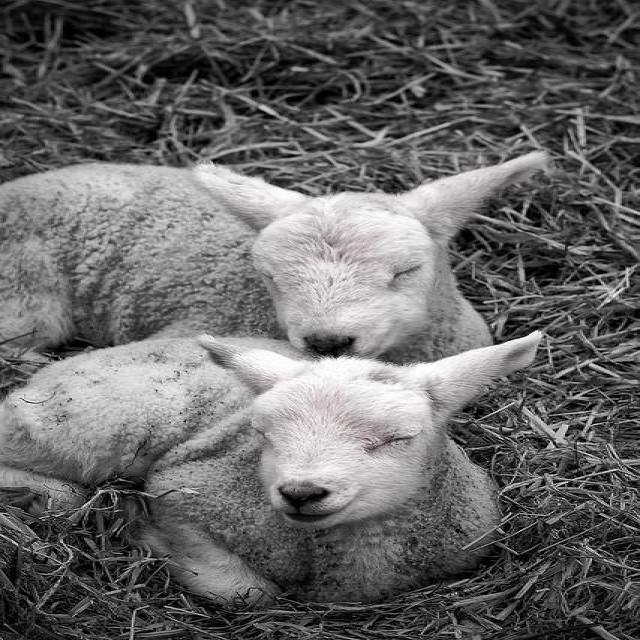Sheep: (3, 330, 543, 601), (0, 156, 564, 361)
